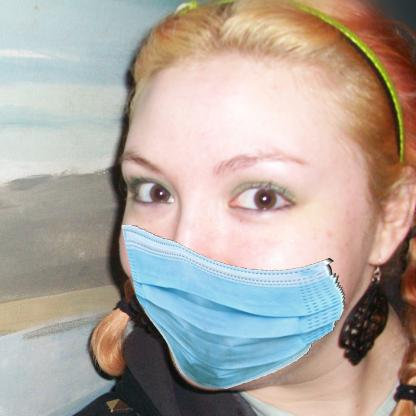Correctly_Masked: (122, 51, 380, 392)
